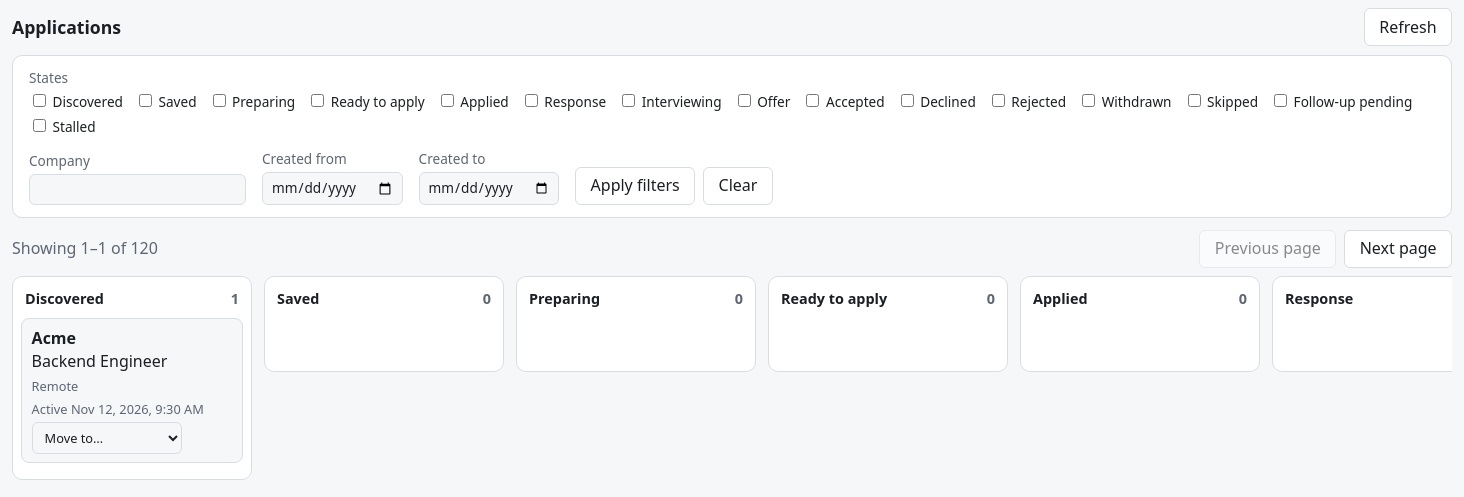
Test case: the board › sends the filters and page as query parameters
Step 1. Click the checkbox labelled "Interviewing" → (629, 101), box 622,94 -> 635,107
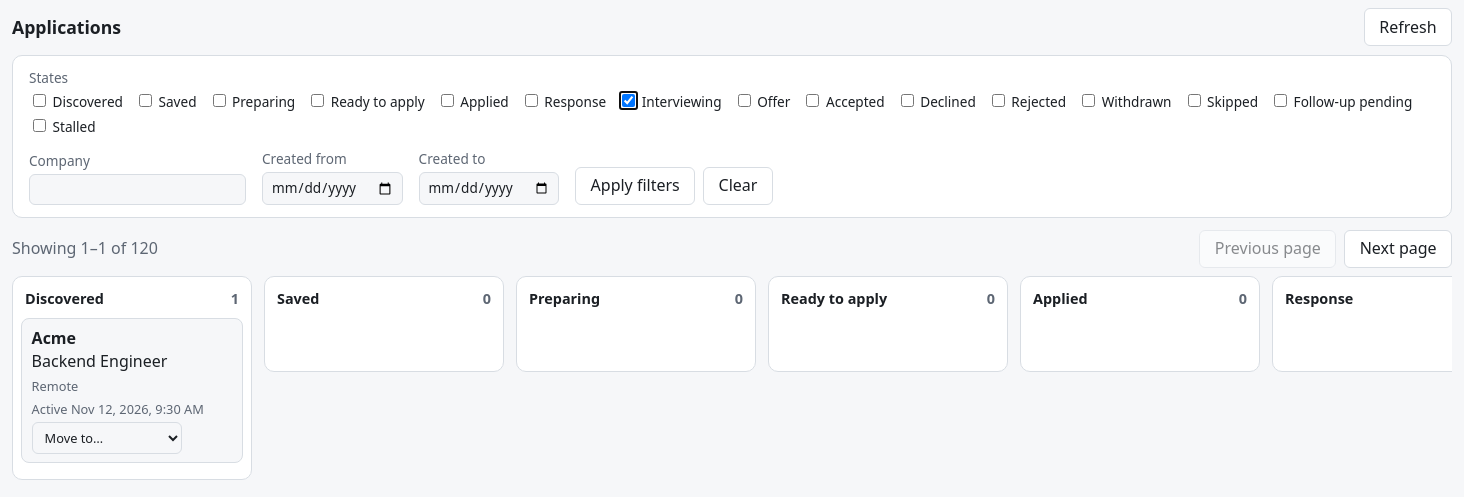
Step 2. Click the checkbox labelled "Saved" → (145, 101), box 139,94 -> 152,107
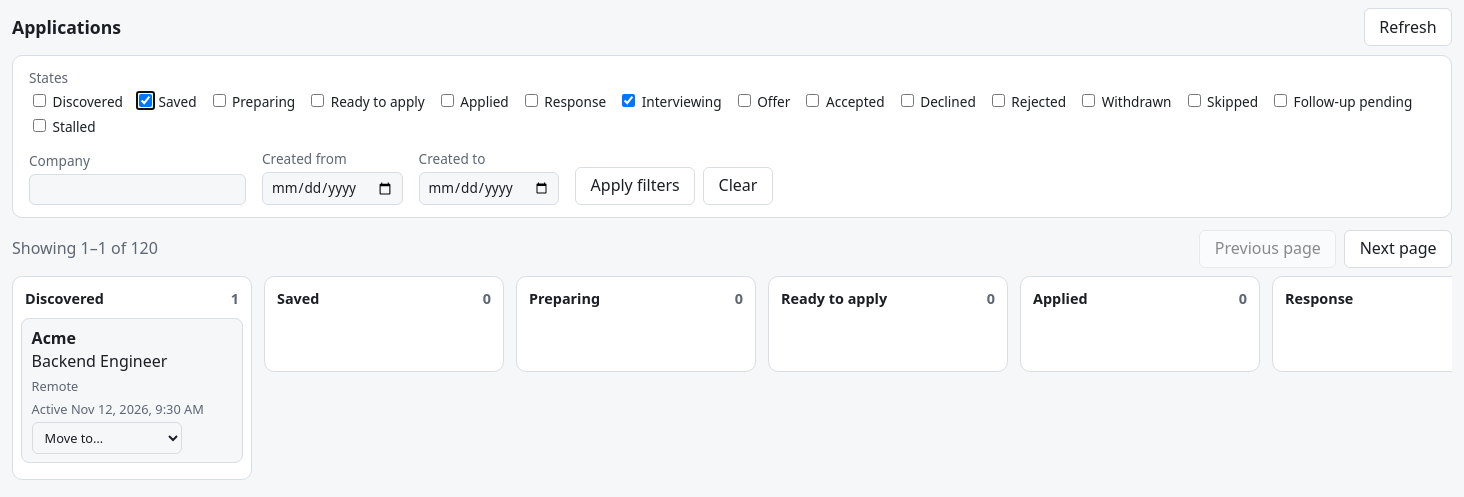
Step 3. Type "Acme" into the field labelled "Company" → (138, 189), box 29,174 -> 246,205
Step 4. Type "2026-11-01" into the date field labelled "Created from" → (332, 188), box 262,172 -> 403,205
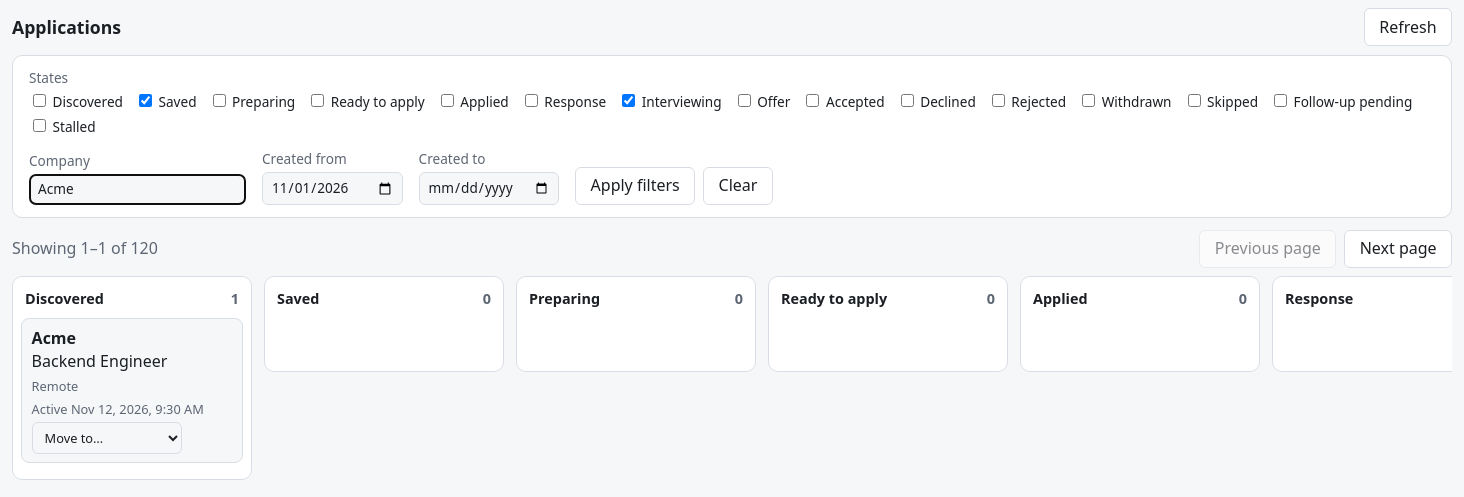
Step 5. Type "2026-11-30" into the date field labelled "Created to" → (489, 188), box 419,172 -> 559,205
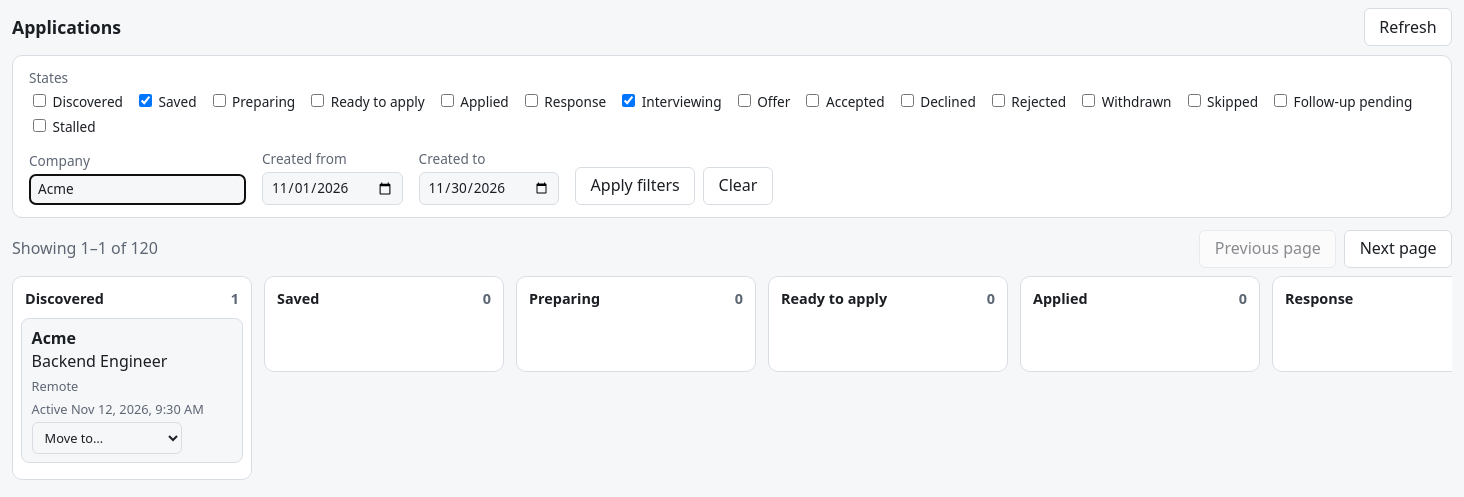
Step 6. Click the button "Apply filters" → (635, 186), box 575,167 -> 695,205
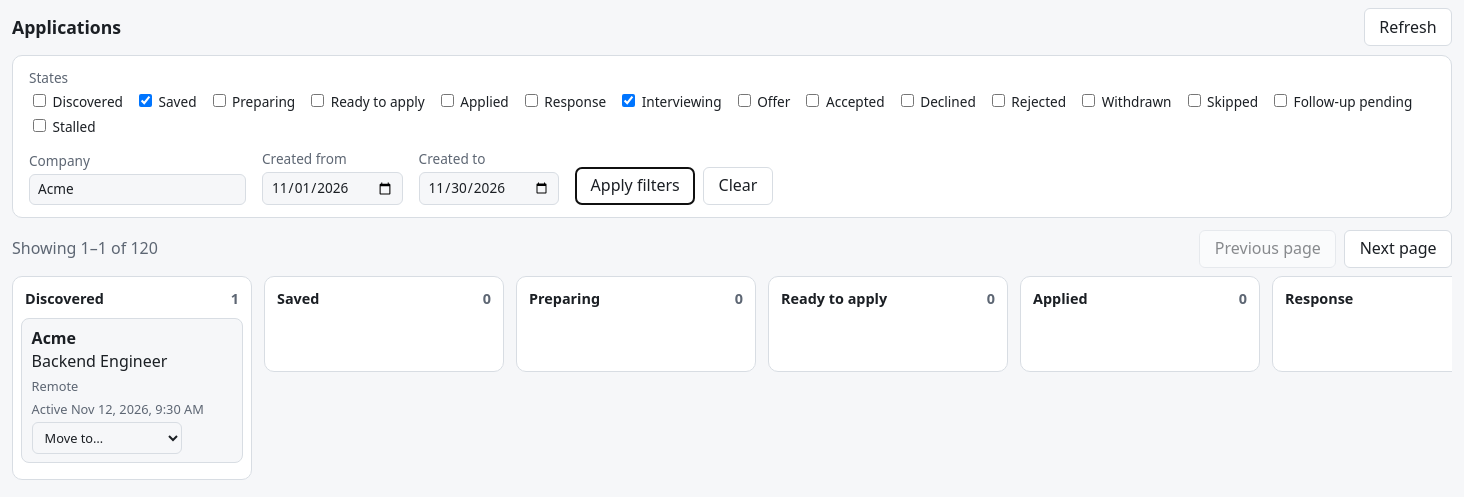
Expected: the text "Acme" is shown, 32,327 -> 76,349
Step 7. Click the button "Next page" → (1398, 249), box 1344,230 -> 1452,268
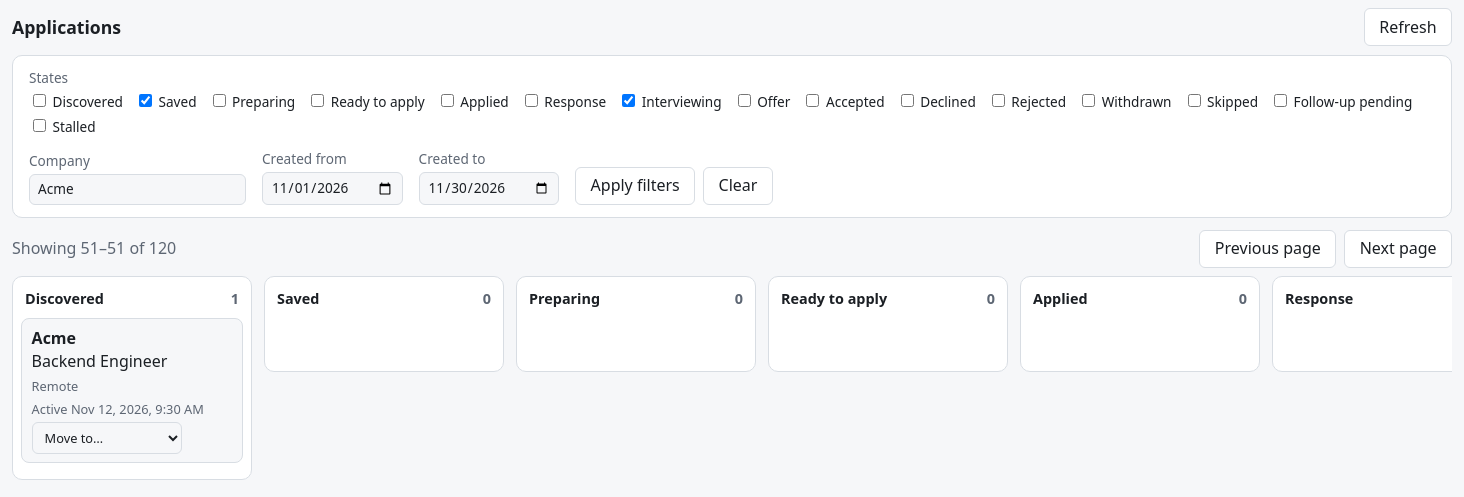
Expected: the text with test id "board-range" reads "Showing 51–51 of 120", 12,237 -> 176,259
